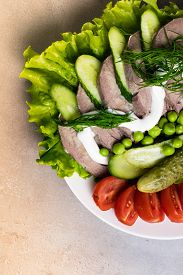boiled peas: (109, 117, 183, 152)
chopped lettuce: (27, 29, 77, 124)
